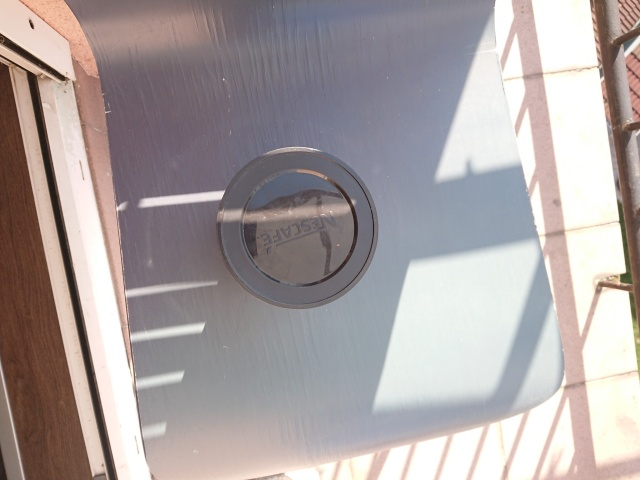Nescafe Classic 225g: (207, 138, 386, 317)
